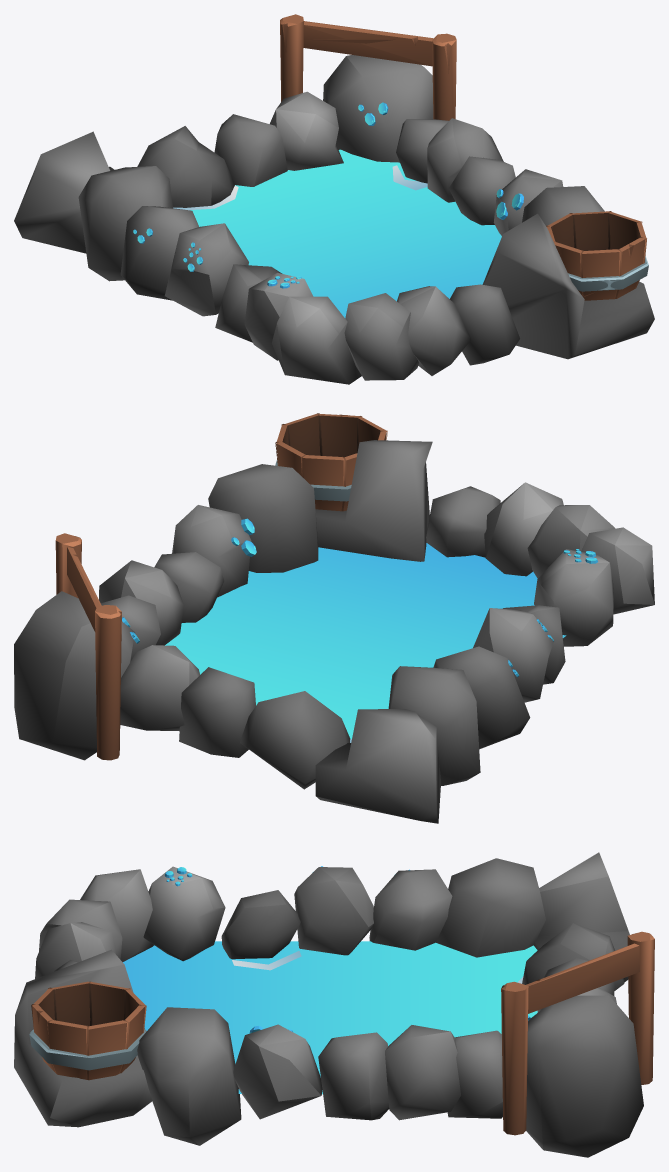
The model's file is pond.glb.
3 views of the same model, one above another, from view 1: azimuth 30°, elevation 25°; view 2: azimuth 150°, elevation 25°; view 3: azimuth 270°, elevation 25° (orthographic). The views are drawn at different scales.
Visible parts, largest first — view 1: pond; view 2: pond; view 3: pond.
Boxes of the visible parts, x1,y1,x2,y2 form: pond: (14,14,654,384); pond: (14,413,654,823); pond: (14,852,654,1157).
Bounding box in the file's own units: 3.19 × 1.24 × 4.05.
1 material, 1 textured.
